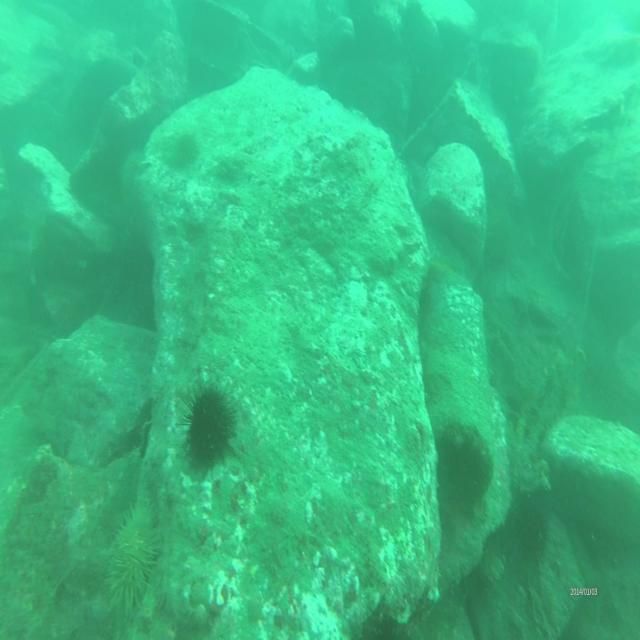echinus: (98, 505, 163, 616), (180, 371, 240, 476), (510, 492, 550, 560), (171, 133, 198, 171)
